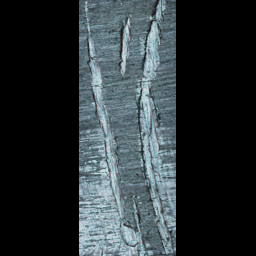d: (80, 1, 153, 255), (136, 0, 176, 255), (116, 15, 134, 78)
